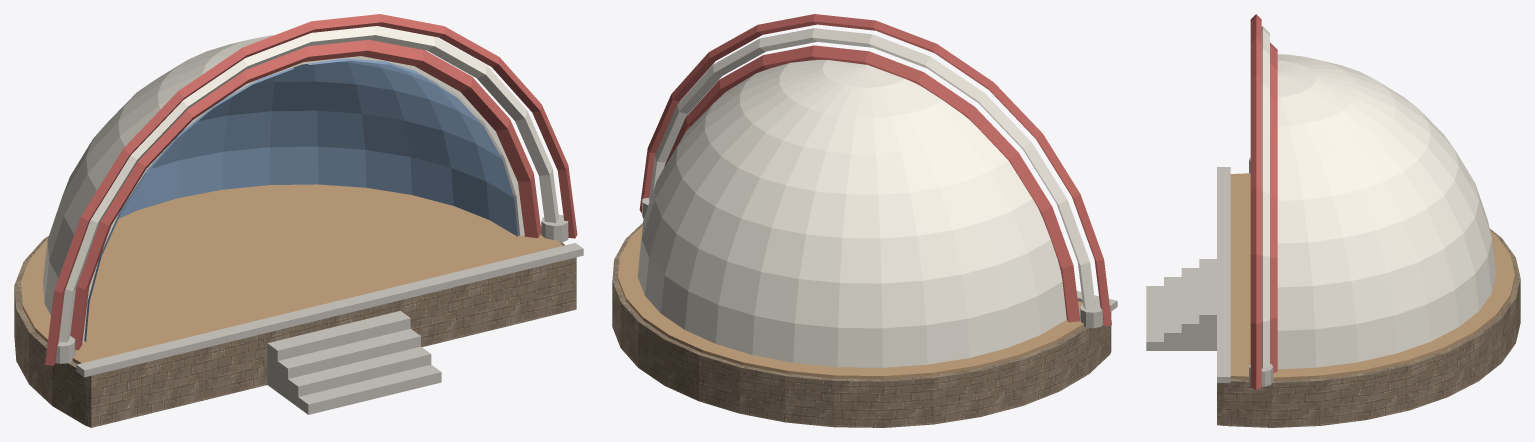
The model's file is bandshell.glb.
3 renders of one model, left to right at view 1: azimuth 30°, elevation 25°; view 2: azimuth 150°, elevation 25°; view 3: azimuth 270°, elevation 25°, orthographic. The views are drawn at different scales.
Parts seen in each view (by area): view 1: Bandshell; view 2: Bandshell; view 3: Bandshell.
Boxes of the visible parts, left/top/right/bottom form: Bandshell: left=14, top=14, right=583, bottom=427; Bandshell: left=612, top=14, right=1117, bottom=427; Bandshell: left=1146, top=14, right=1520, bottom=427.
Bounding box in the file's own units: 9.6 × 5.7 × 6.78.
Materials: 6 (1 with a texture image).
